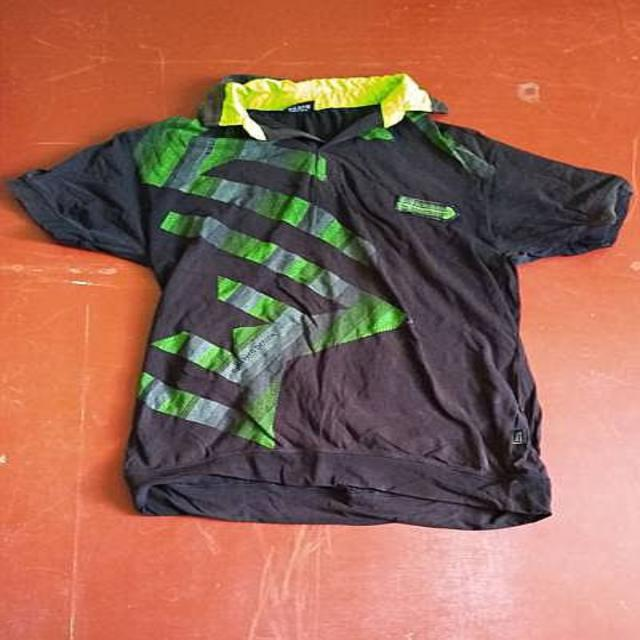T_SHIRT: (7, 60, 640, 535)
